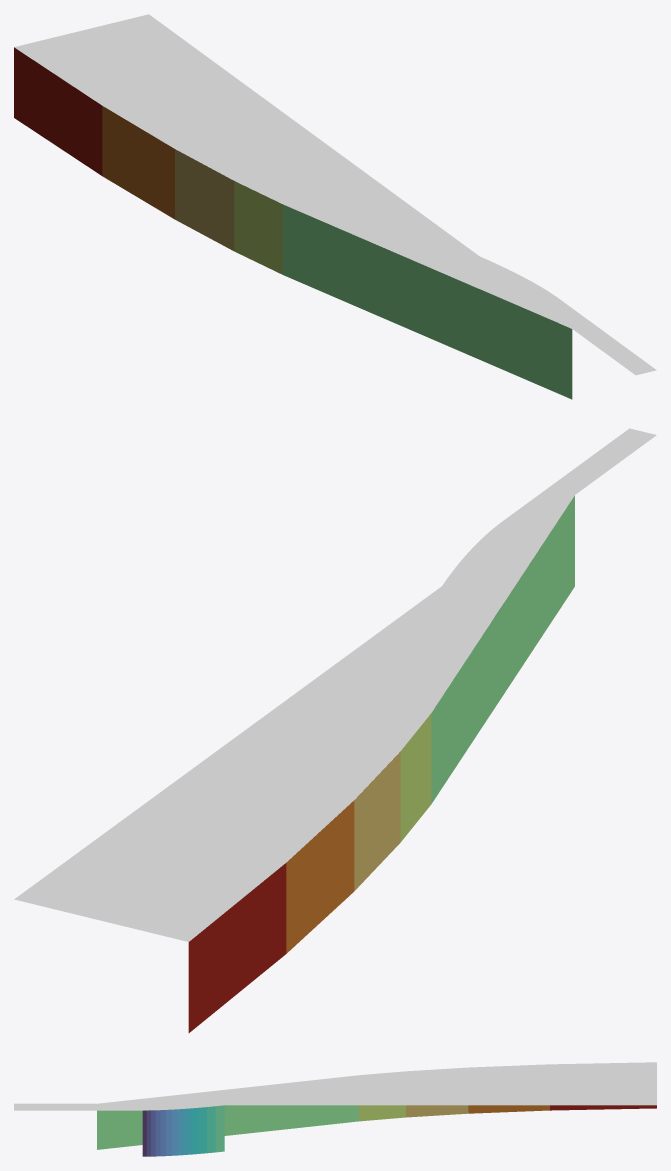
File: scramjet_n5_m14.glb
The picture shows the model from 3 angles, top to bottom: view 1: azimuth 30°, elevation 25°; view 2: azimuth 150°, elevation 25°; view 3: azimuth 270°, elevation 25°; orthographic projection. The views are drawn at different scales.
Visible parts, largest first — view 1: Renderer Node; view 2: Renderer Node; view 3: Renderer Node.
Boxes of the visible parts, x1,y1,x2,y2 form: Renderer Node: (14, 14, 656, 399); Renderer Node: (14, 428, 656, 1032); Renderer Node: (14, 1062, 656, 1156).
Bounding box in the file's own units: 1.12 × 0.5005 × 6.31.
